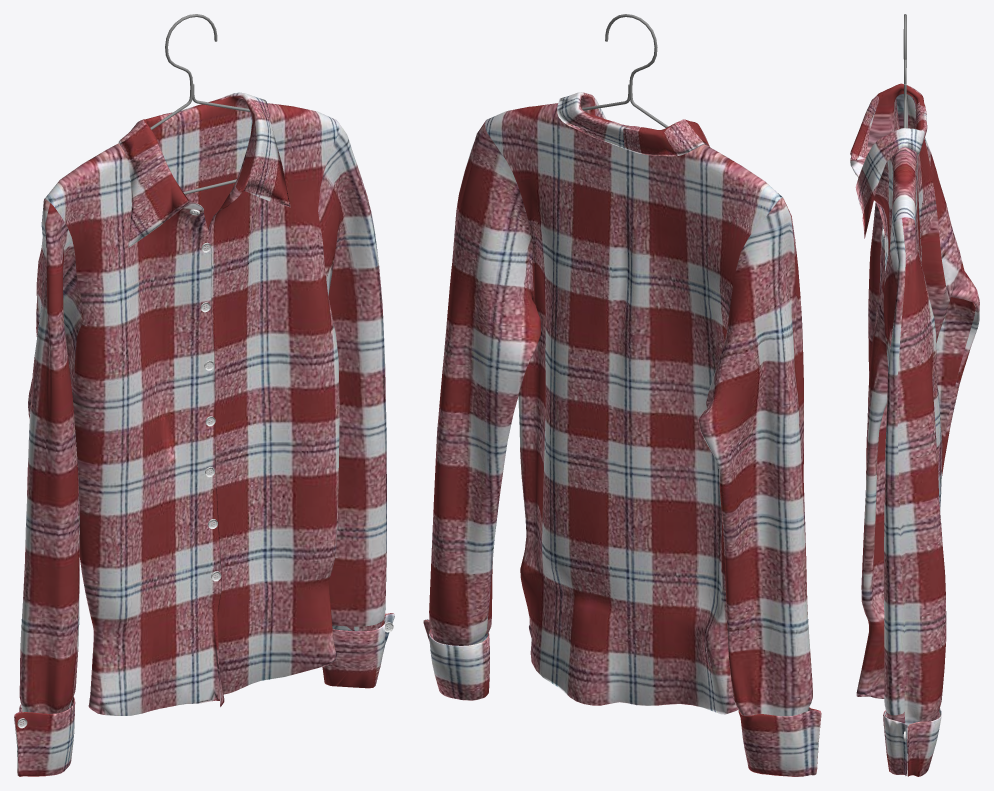
Rendered from shirt 3.FBX.
3 views of the same model, side by side, from view 1: azimuth 30°, elevation 25°; view 2: azimuth 150°, elevation 25°; view 3: azimuth 270°, elevation 25° (orthographic). The views are drawn at different scales.
Visible parts, largest first — view 1: Shirt 3, hanger; view 2: Shirt 3, hanger; view 3: Shirt 3, hanger.
Part boxes in pixels (x1,y1,x2,y2): Shirt 3: [14, 92, 394, 776]; hanger: [150, 14, 250, 194]; Shirt 3: [423, 92, 821, 776]; hanger: [581, 14, 668, 127]; Shirt 3: [850, 83, 979, 776]; hanger: [903, 14, 907, 128].
Size of the model in its own units: 20.48 by 6.26 by 36.19.
3 materials, 1 textured.
